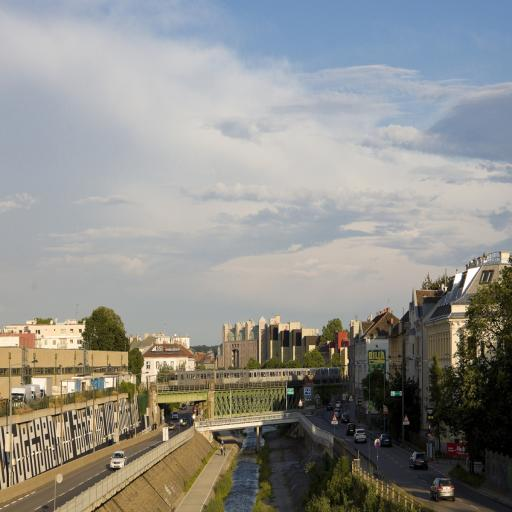Silberpfeil: (167, 368, 341, 388)
